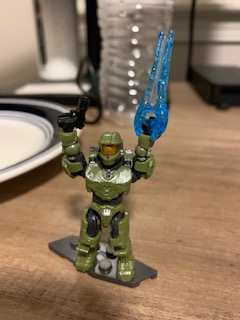chief: (48, 111, 158, 287)
pistol: (56, 95, 90, 133)
spartan: (46, 109, 156, 285)
up: (51, 108, 157, 203)
